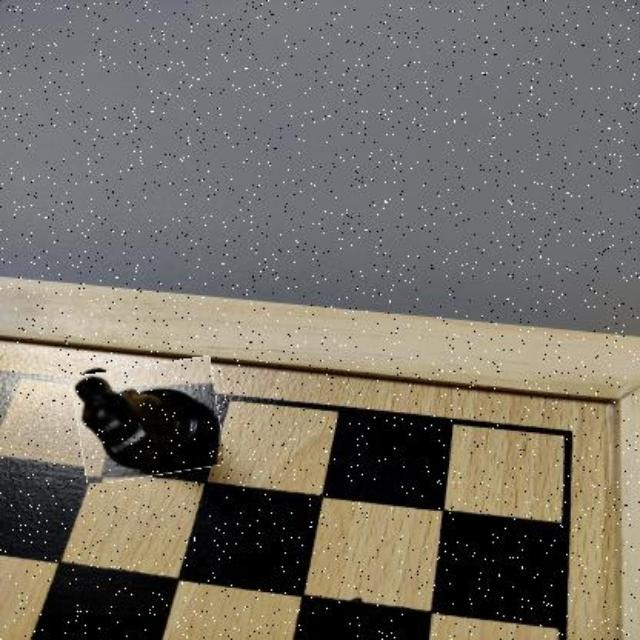black-knight: (74, 362, 221, 480)
